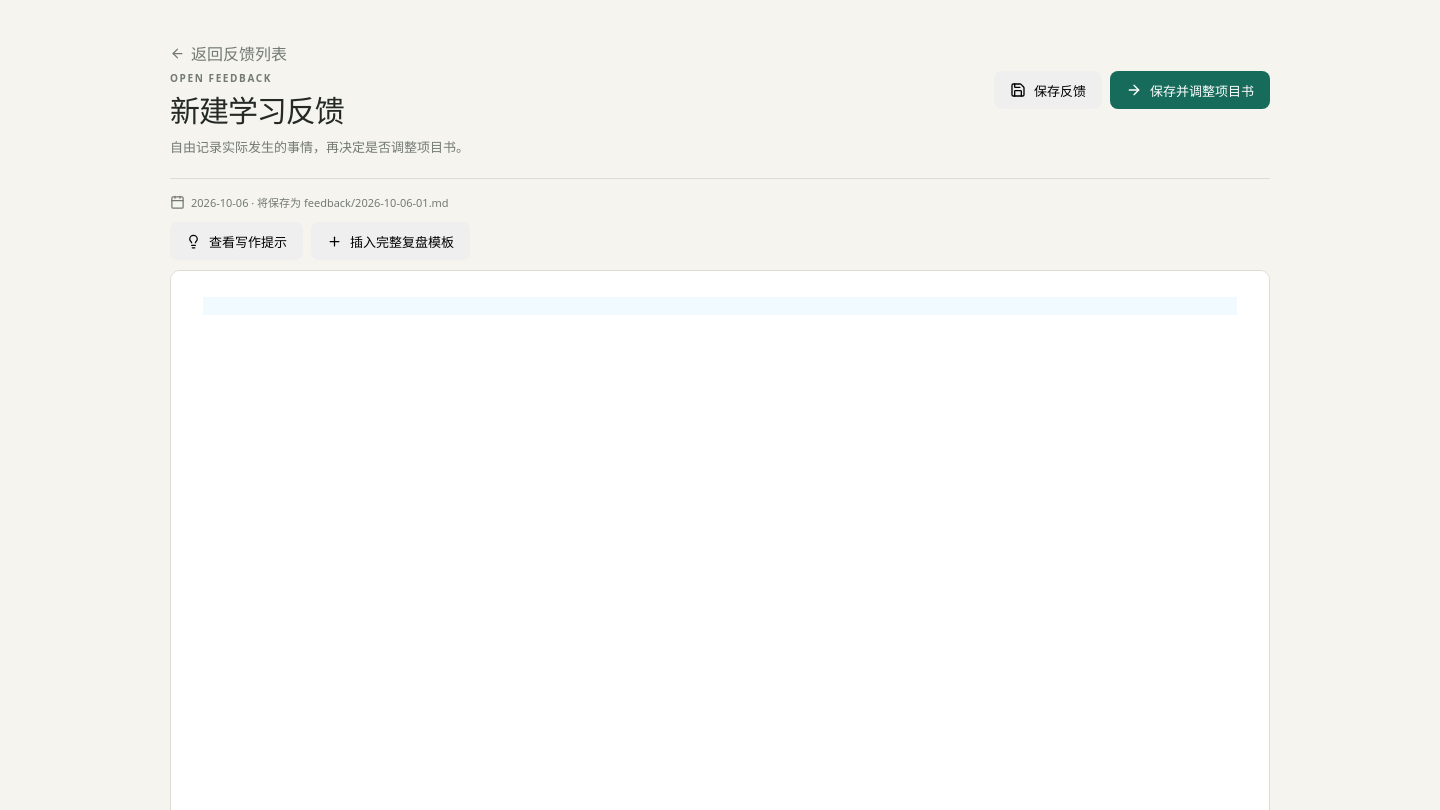
Test: FeedbackWorkspace › starts with a blank editor and reveals optional writing prompts
expect the text "实际发生了什么" is not shown: met
Click the button "查看写作提示". click: (236,241)
box: [170,222,303,260]
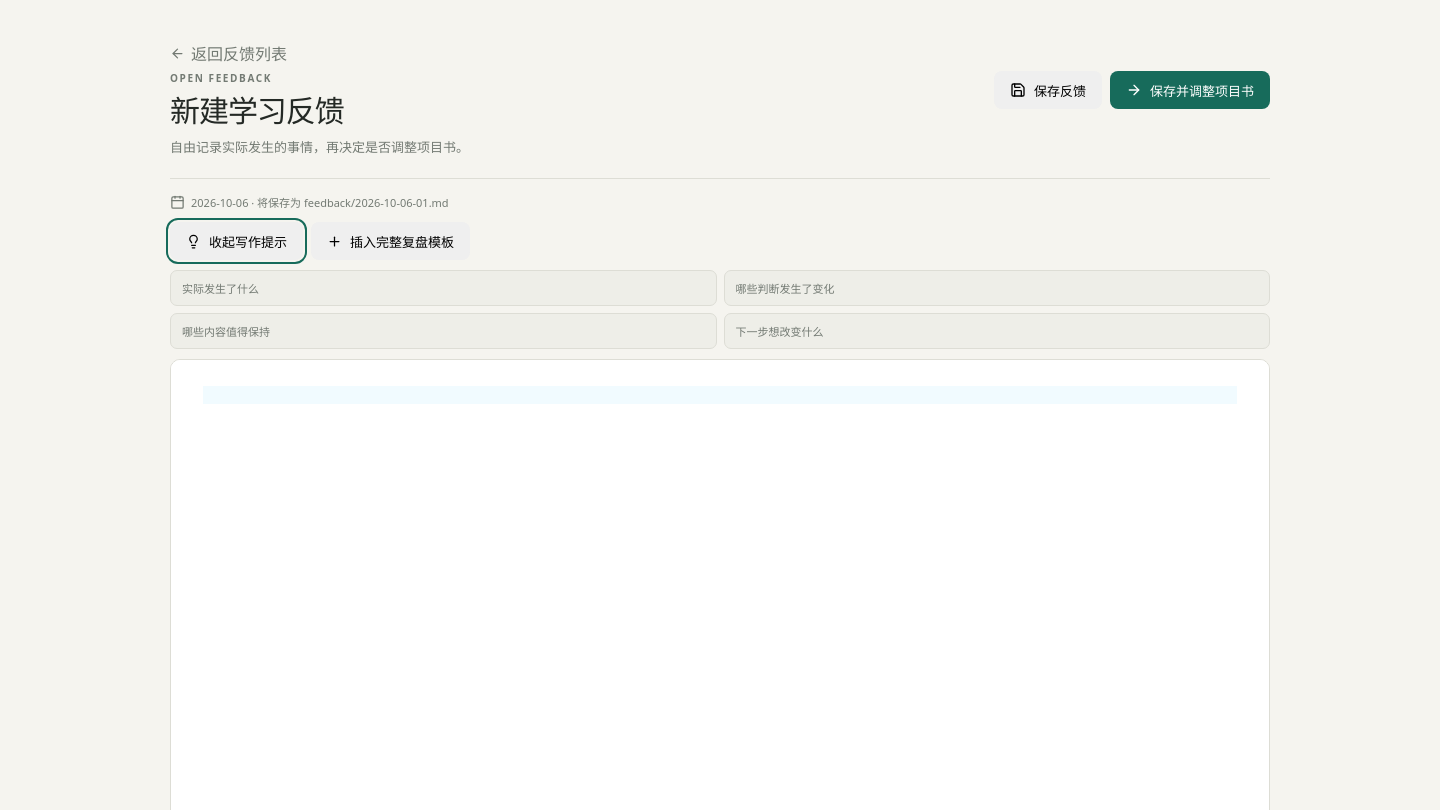
expect the text "实际发生了什么" is shown: met, box [170,270,716,306]
expect the text "哪些判断发生了变化" is shown: met, box [724,270,1270,306]
expect the text "哪些内容值得保持" is shown: met, box [170,313,716,349]
